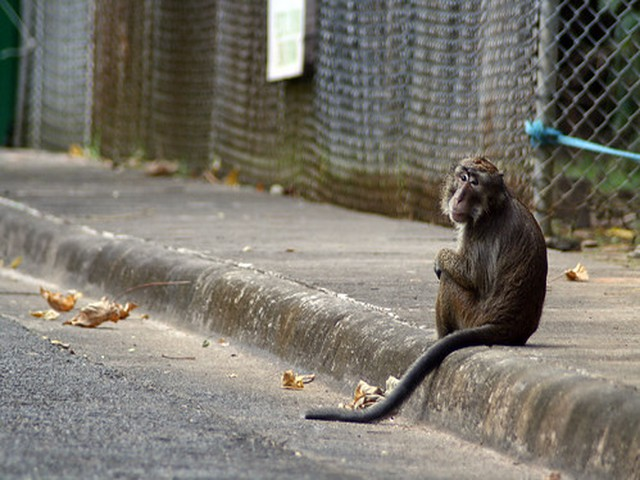Monkey: (326, 152, 548, 431)
